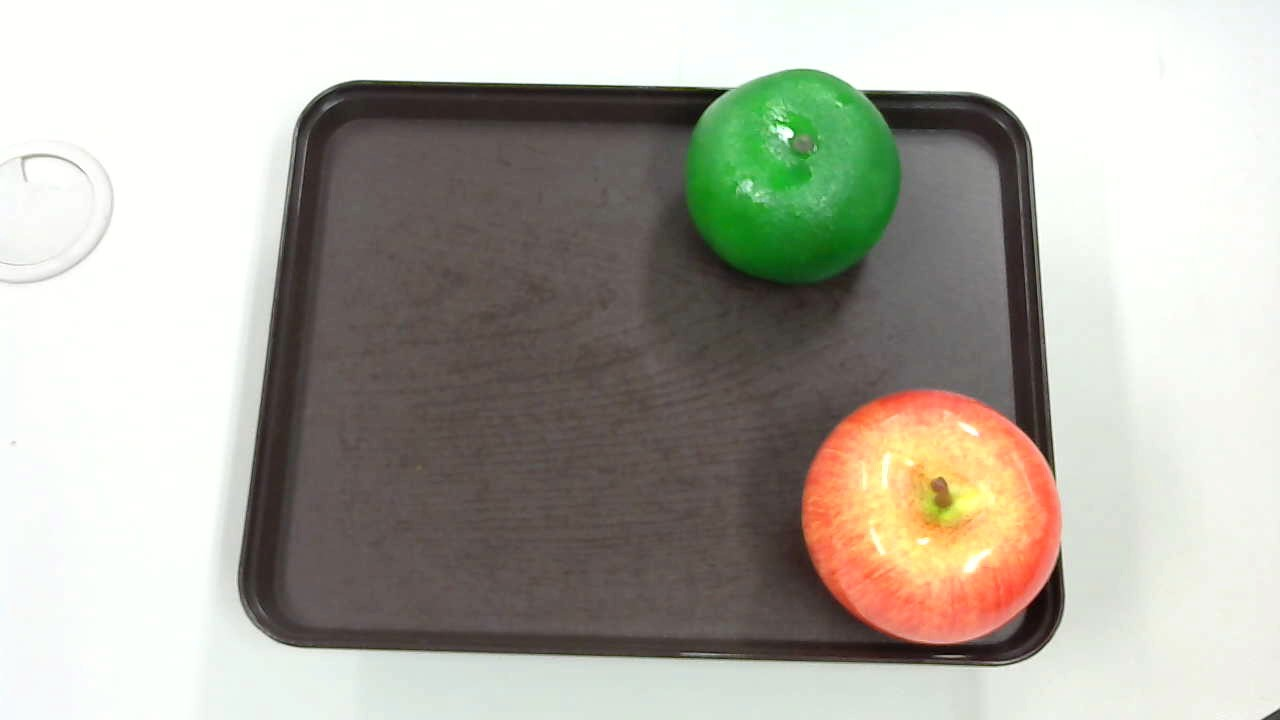green orange: (689, 67, 905, 288)
red apple: (796, 381, 1071, 649)
